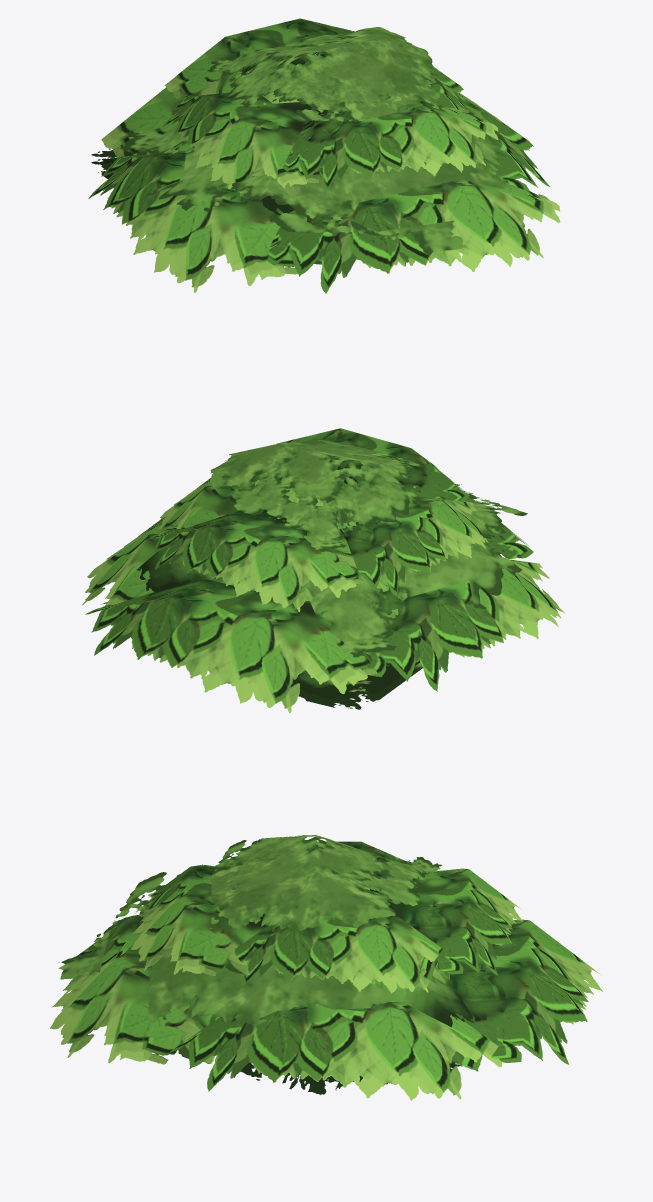
File: Bush_fbx.fbx
3 views of the same model, one above another, from view 1: azimuth 30°, elevation 25°; view 2: azimuth 150°, elevation 25°; view 3: azimuth 270°, elevation 25° (orthographic). The views are drawn at different scales.
Parts seen in each view (by area): view 1: Bush; view 2: Bush; view 3: Bush.
Boxes of the visible parts, box(x1,y1,x2,y2) form: Bush: box(88, 18, 560, 293); Bush: box(82, 428, 564, 713); Bush: box(50, 835, 602, 1100).
Size of the model in its own units: 28.02 by 12.69 by 30.77.
